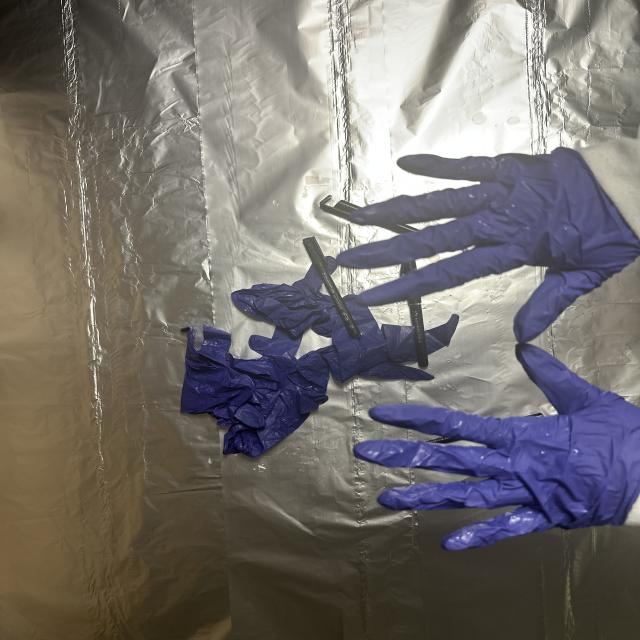gloves_contaminated: (354, 344, 640, 550), (337, 150, 640, 343)
